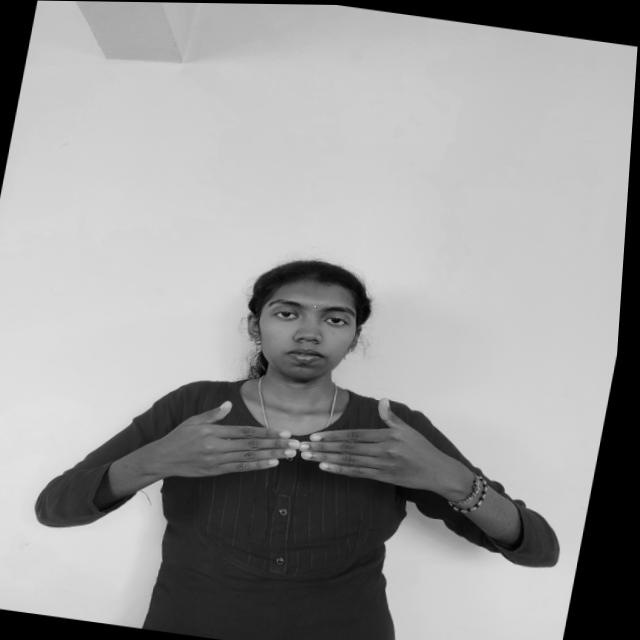Night: (127, 356, 486, 525)
